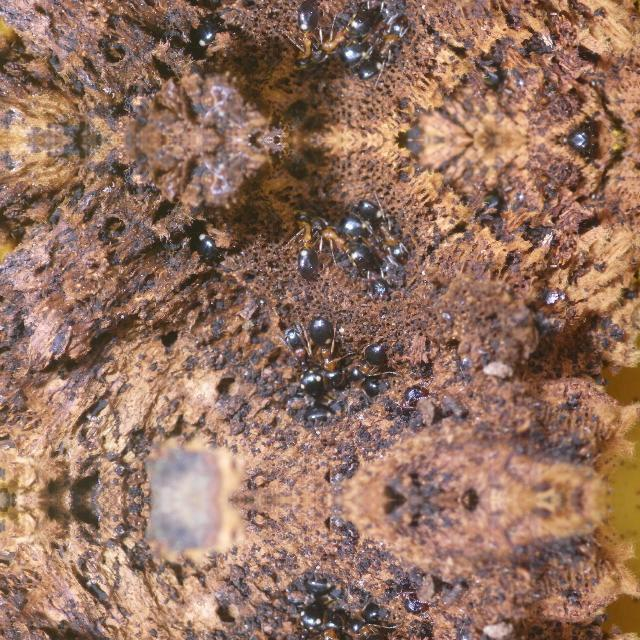Dolichoderus: (277, 198, 333, 284), (364, 187, 428, 261), (364, 19, 428, 93), (277, 0, 333, 82), (302, 11, 368, 70), (302, 210, 368, 268), (348, 332, 404, 400), (307, 311, 349, 401), (275, 332, 321, 398), (348, 600, 404, 640), (185, 214, 225, 268), (185, 12, 225, 66), (307, 598, 349, 640), (275, 602, 321, 640)
